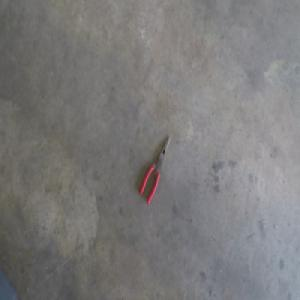Pliers: (139, 135, 171, 204)
